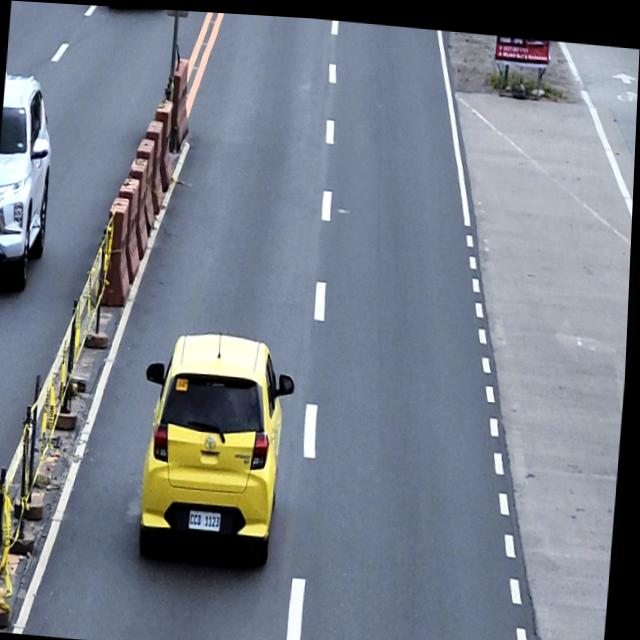Car: (134, 320, 305, 573), (0, 71, 59, 302)
License-Plate: (192, 505, 227, 529)
